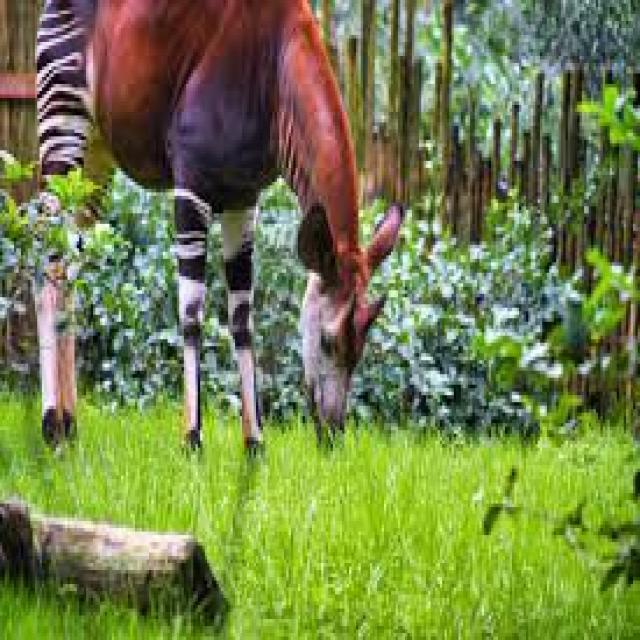Okapi: (19, 0, 398, 486)
